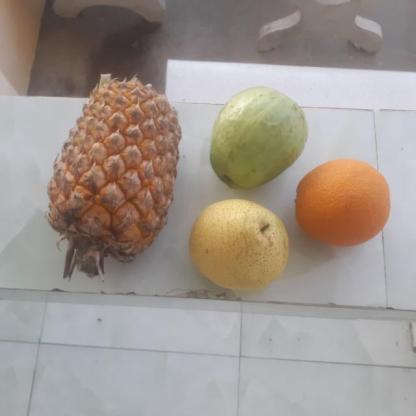guava: (208, 88, 307, 186)
orange: (291, 160, 393, 246)
pear: (184, 199, 291, 293)
pineapple: (46, 82, 176, 266)
